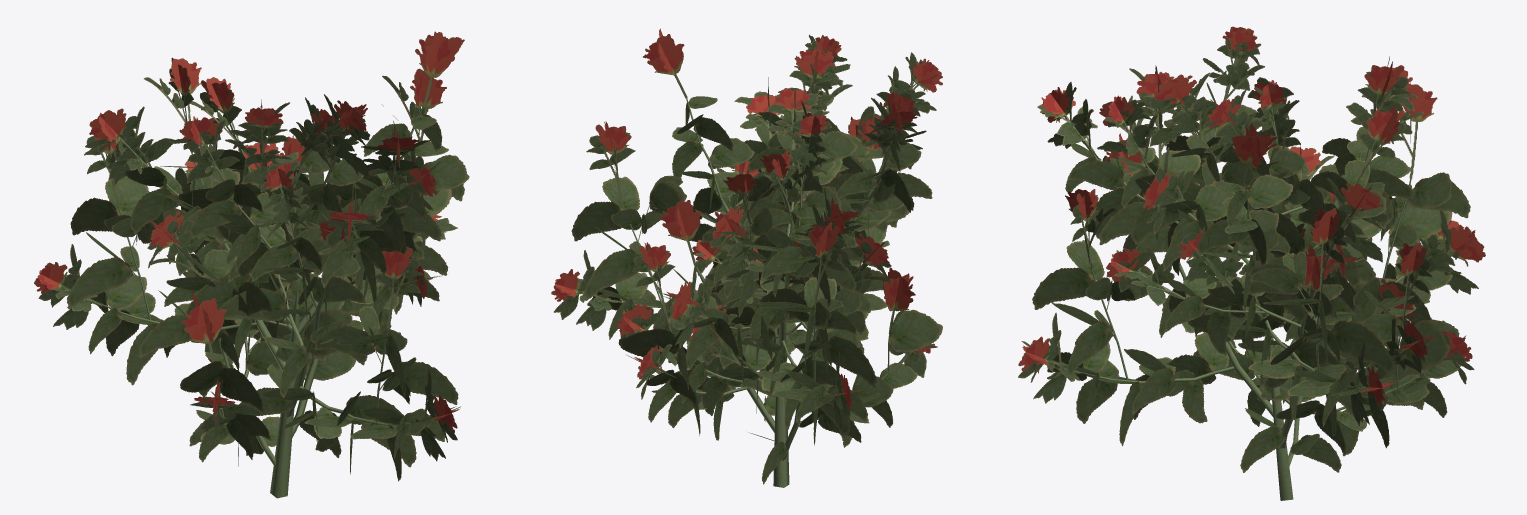
File: RosaGrandiflora.glb
3 renders of one model, left to right at view 1: azimuth 30°, elevation 25°; view 2: azimuth 150°, elevation 25°; view 3: azimuth 270°, elevation 25°, orthographic. The views are drawn at different scales.
Visible parts, largest first — view 1: Rose__Realistic_LOD3; view 2: Rose__Realistic_LOD3; view 3: Rose__Realistic_LOD3.
Part boxes in pixels (x1,y1,x2,y2): Rose__Realistic_LOD3: (34, 31, 469, 498); Rose__Realistic_LOD3: (551, 28, 942, 487); Rose__Realistic_LOD3: (1018, 26, 1485, 500).
Bounding box in the file's own units: 1.22 × 1.26 × 1.27.
Materials: 1 (1 with a texture image).
